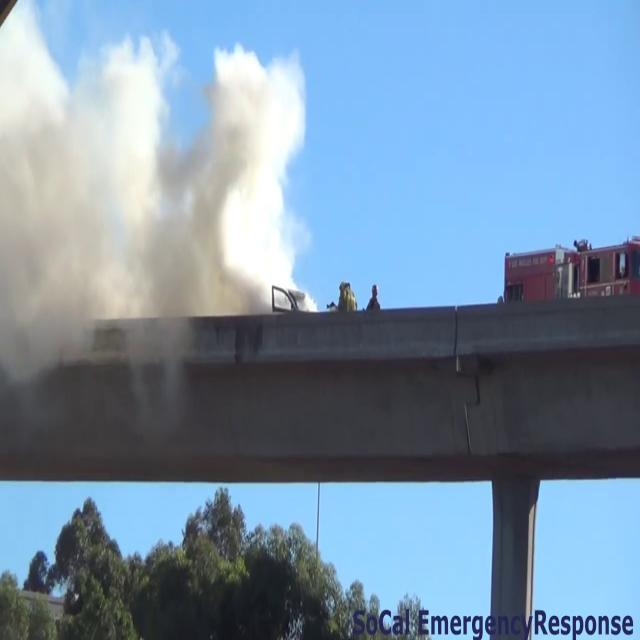Smoke: (0, 20, 322, 402)
